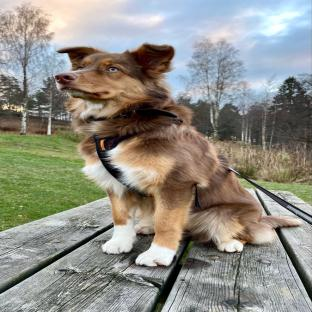Animal: (55, 43, 300, 266)
